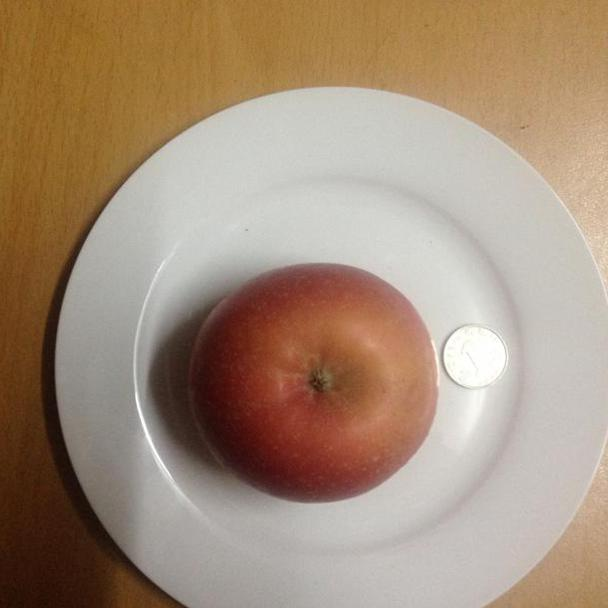apple: (187, 263, 439, 504)
